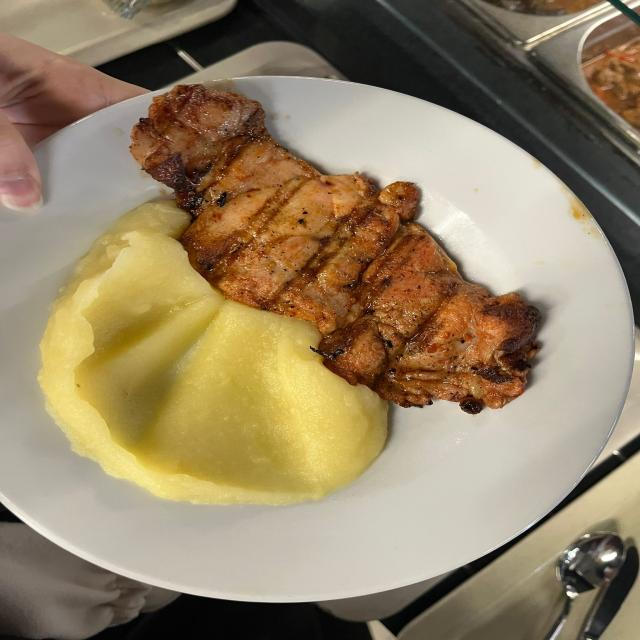ana_yemek: (50, 94, 590, 566)
